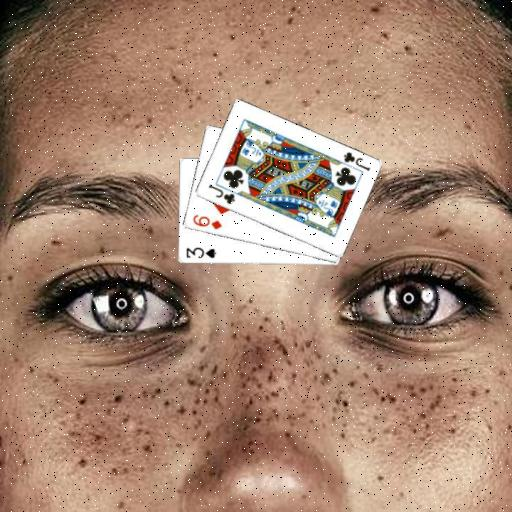3S: (183, 245, 217, 261)
6D: (189, 211, 223, 231)
JC: (205, 182, 237, 206), (340, 149, 372, 173)
